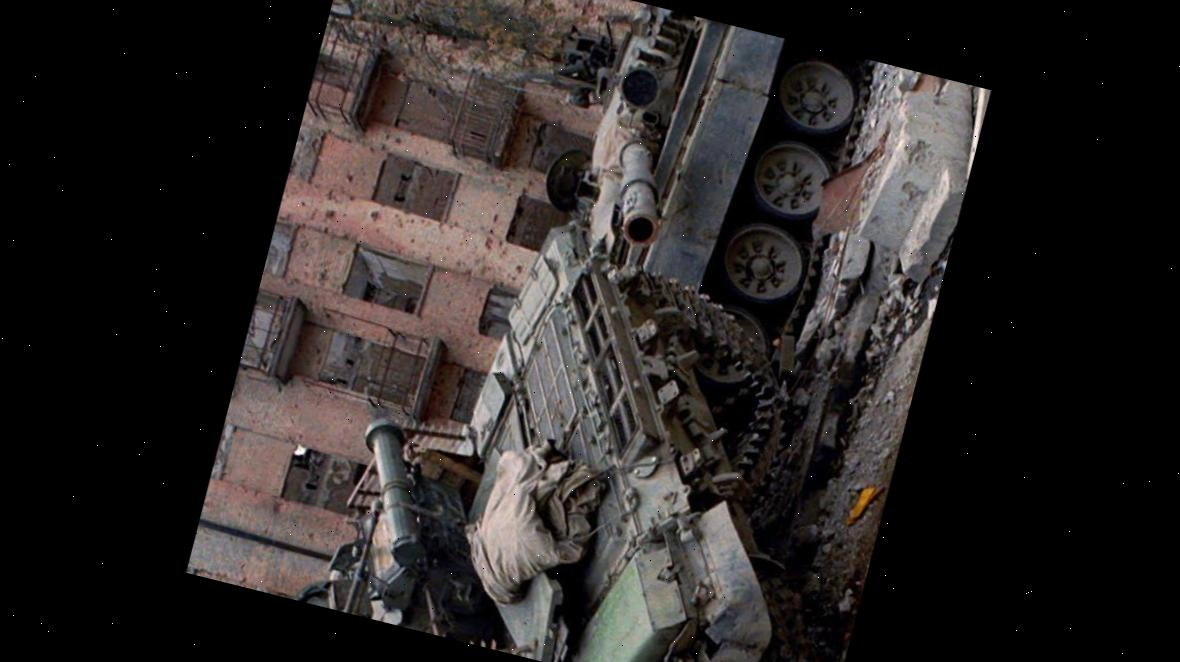tank: (281, 173, 922, 662), (513, 0, 874, 364)
